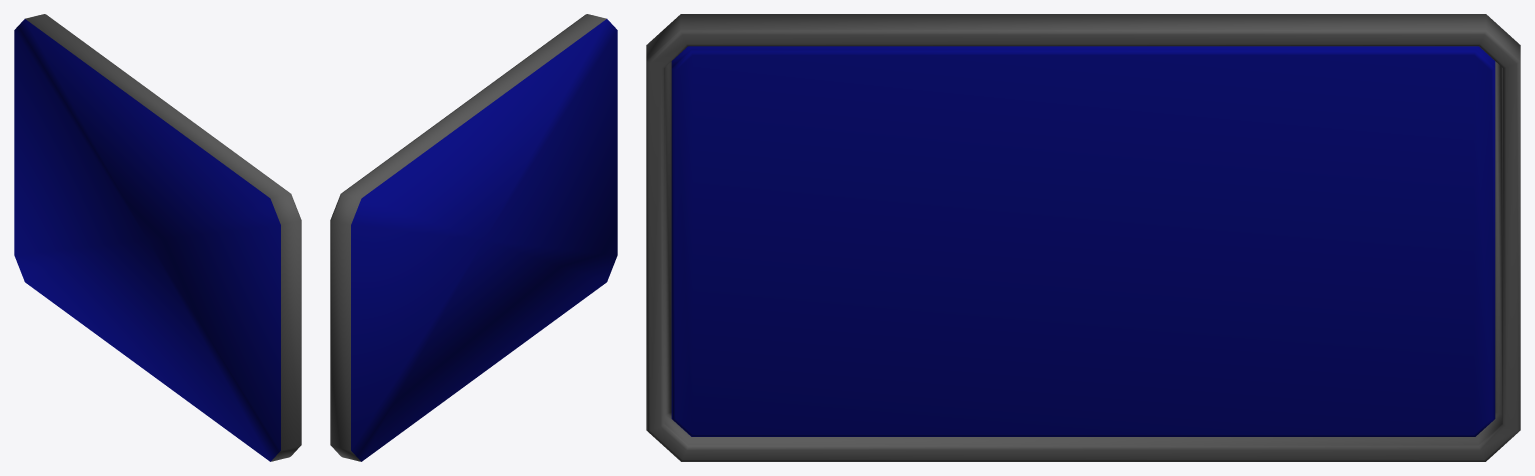
The model's file is ML_board.fbx.
The picture shows the model from 3 angles, left to right: view 1: azimuth 30°, elevation 25°; view 2: azimuth 150°, elevation 25°; view 3: azimuth 270°, elevation 25°; orthographic projection. The views are drawn at different scales.
Parts seen in each view (by area): view 1: ML_board; view 2: ML_board; view 3: ML_board.
Part boxes in pixels (box(x1,y1,x2,y2)): ML_board: box(14, 14, 301, 461); ML_board: box(330, 14, 617, 461); ML_board: box(646, 14, 1520, 461).
Bounding box in the file's own units: 22.78 × 268 × 491.
